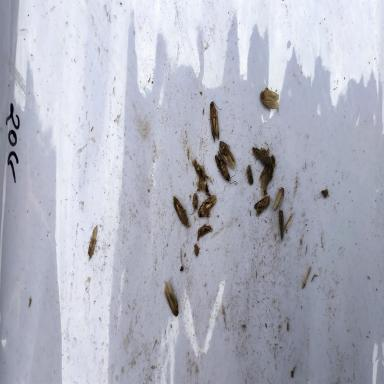pbw: (214, 150, 238, 185), (172, 196, 190, 242), (258, 154, 277, 195), (208, 101, 222, 143), (164, 280, 179, 317), (260, 86, 280, 112), (219, 140, 236, 168), (251, 145, 272, 167), (196, 195, 216, 218), (254, 194, 270, 216), (88, 225, 98, 260), (192, 158, 206, 182), (274, 187, 284, 212), (198, 224, 212, 237), (278, 210, 284, 240)
